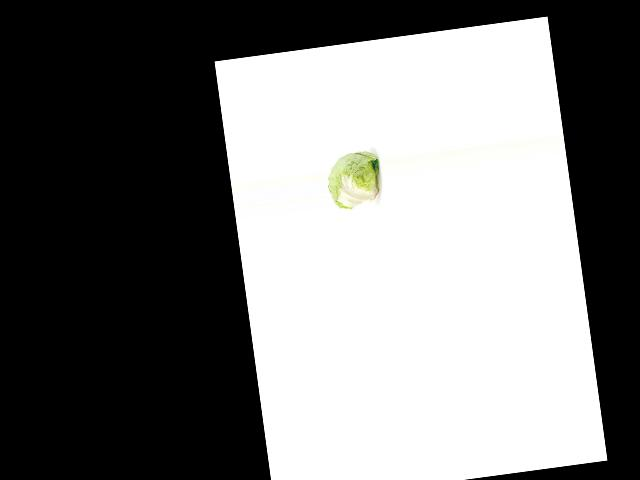lettuce: (324, 147, 387, 212)
